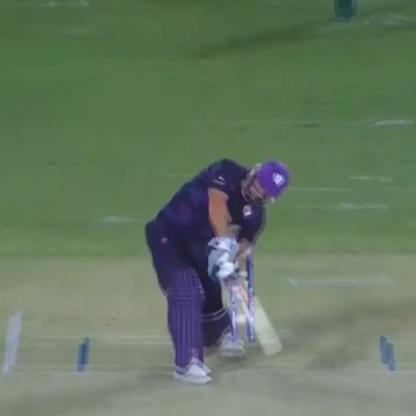ball: (231, 309, 249, 328)
bat: (214, 252, 276, 361)
pitch: (4, 292, 413, 416)
